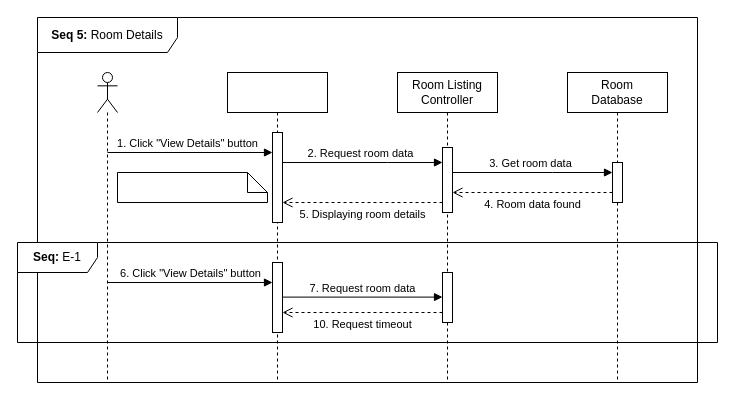
This 735x400 diagram has some shape labels left out. Here are the shapes that lost their labels. From the top down, the centre of each, then its label:
At point 192,187: "E-1: Request timeout".
At point 277,227: "Room Listing Page".
